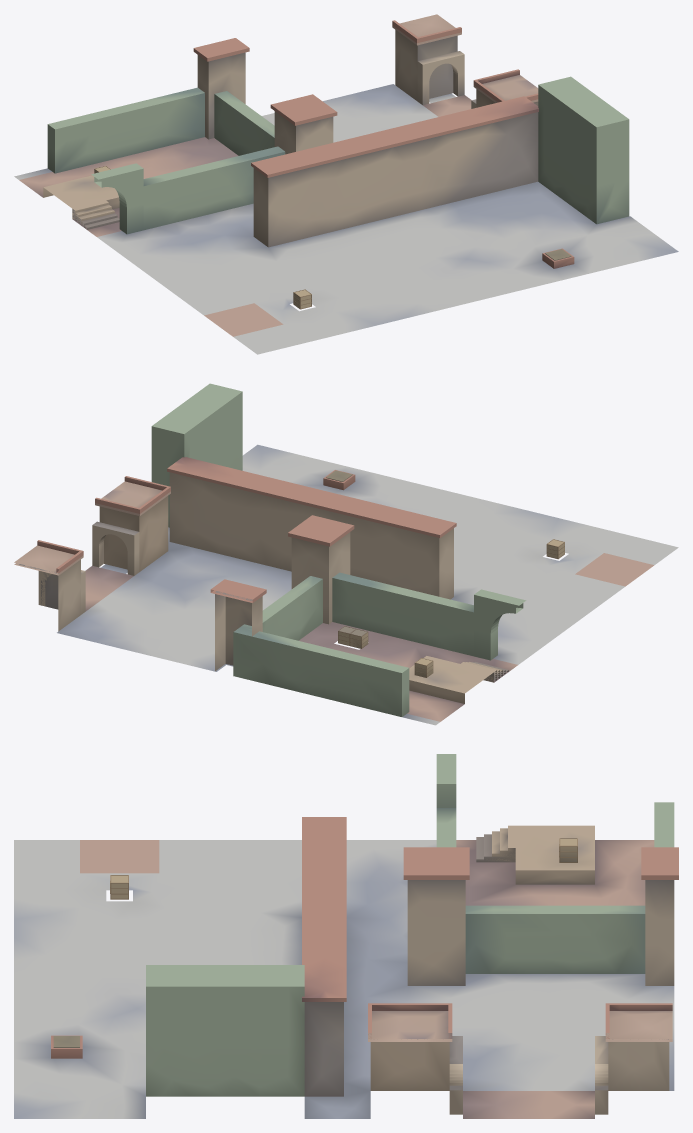
The picture shows the model from 3 angles, top to bottom: view 1: azimuth 30°, elevation 25°; view 2: azimuth 150°, elevation 25°; view 3: azimuth 270°, elevation 25°; orthographic projection. The views are drawn at different scales.
Parts seen in each view (by area): view 1: t; view 2: t; view 3: t.
Boxes of the visible parts, bbox=[...] form: t: bbox=[14, 14, 678, 354]; t: bbox=[14, 383, 678, 725]; t: bbox=[14, 754, 678, 1118].
Bounding box in the file's own units: 50.5 × 11 × 50.36.
